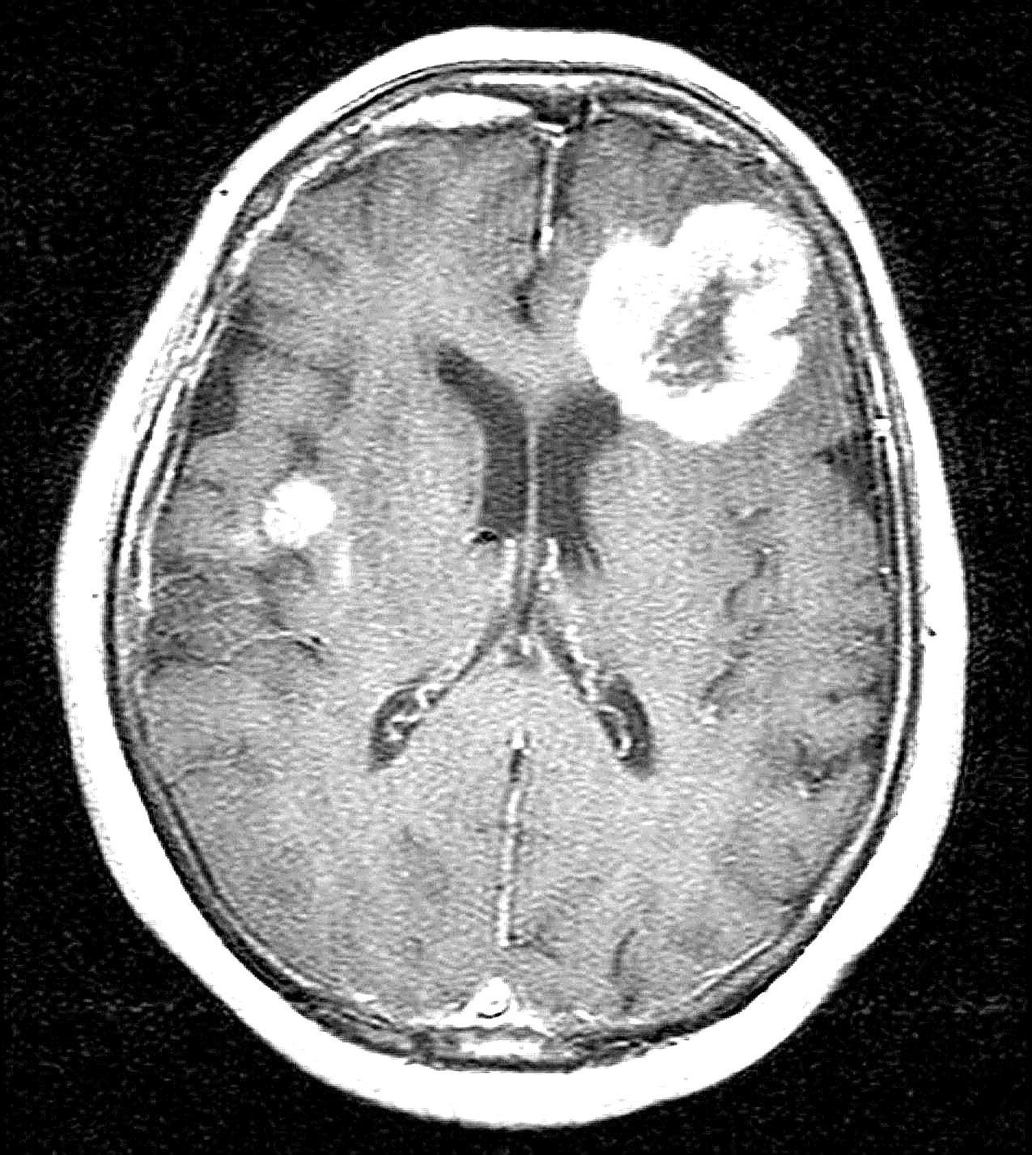Tumor: (589, 192, 808, 455)
